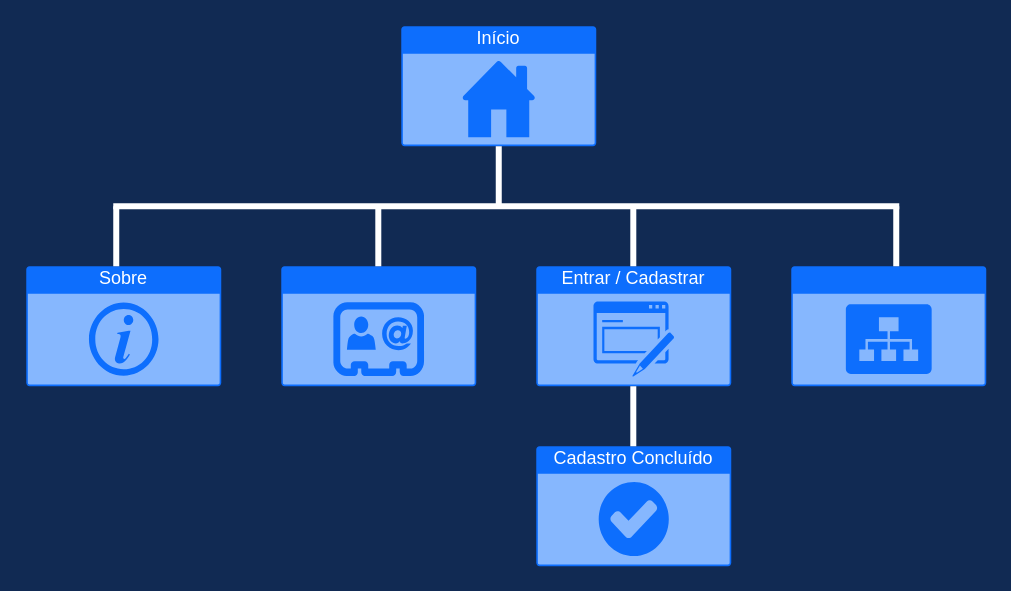
Some shapes in this 1011 by 591 pixel diagram are drawn without their labels. The centre of each missing label's shape, as x and y in pixels:
"Contato" belongs at point 378,326.
"Sitemap" belongs at point 888,326.
